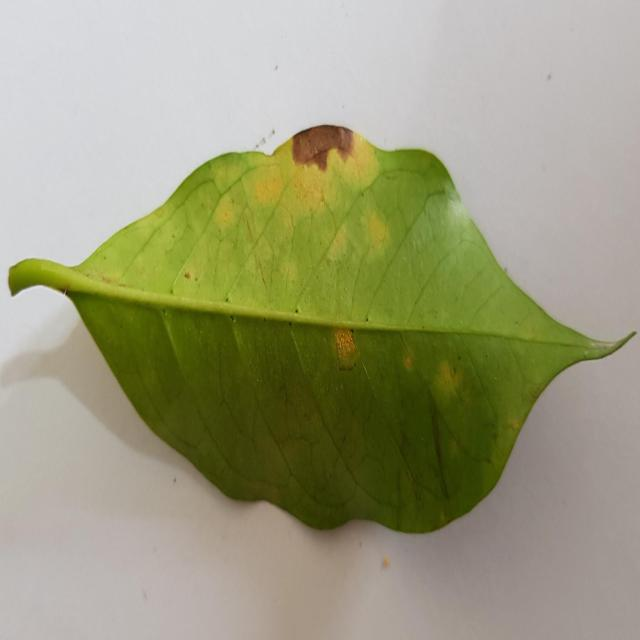rust: (270, 125, 379, 206), (429, 359, 462, 406), (331, 327, 358, 370)
